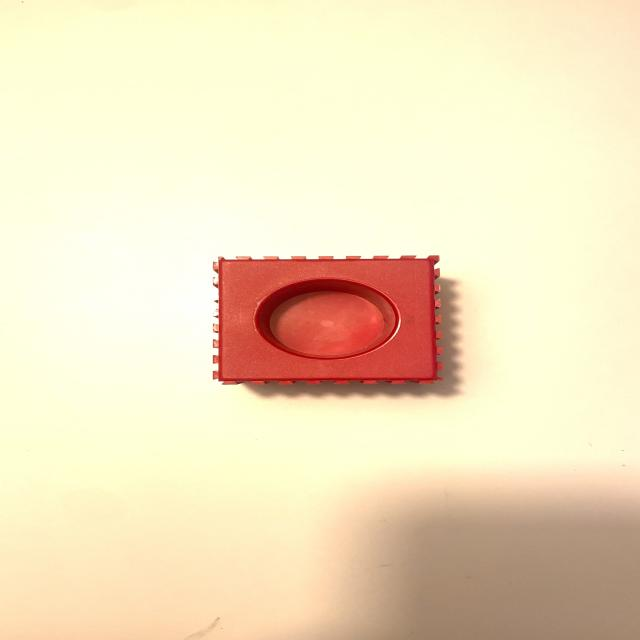Empty_Slot: (212, 256, 442, 385)
